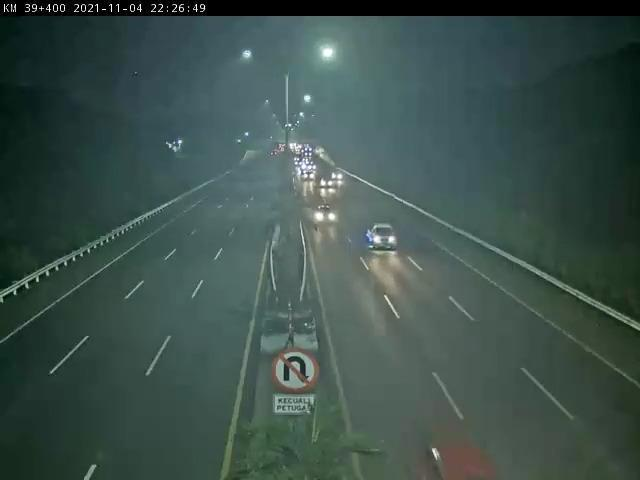car: (399, 428, 530, 480), (305, 204, 354, 230)
truck: (359, 213, 412, 262)
